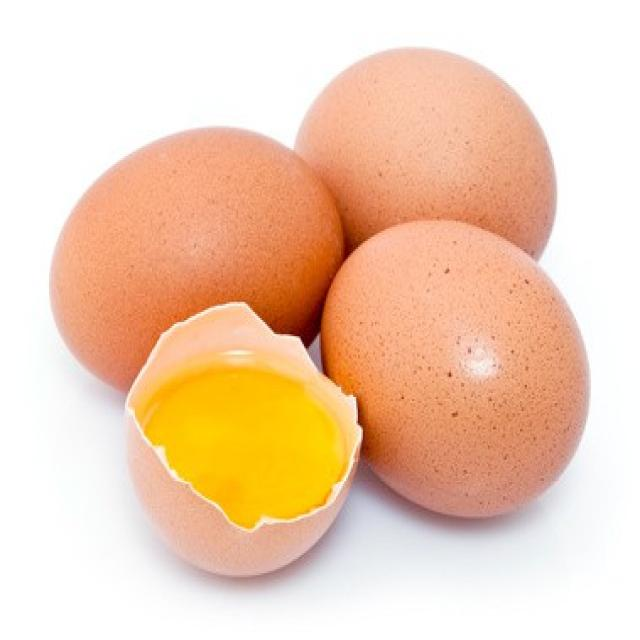Egg: (294, 37, 596, 526), (40, 106, 358, 389)
